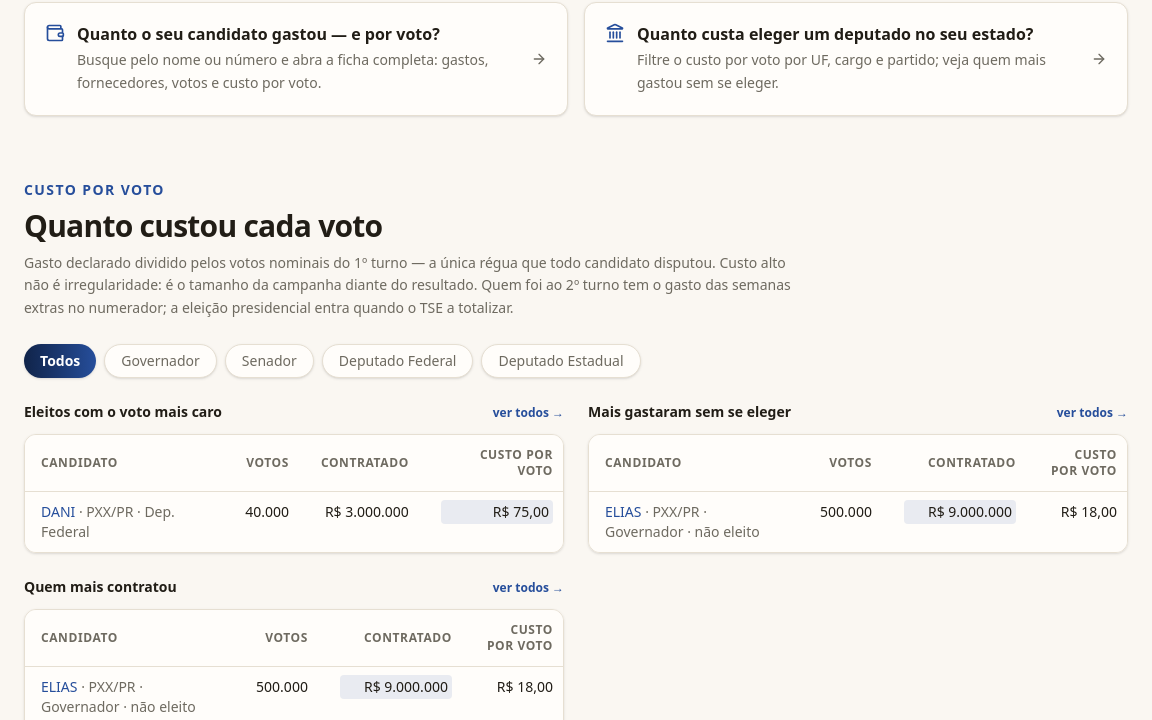
Test: home · custo por voto › as quatro listas e o ranking de partidos aparecem, e a aba por cargo filtra
(page scrolled)
Check: the heading "Quanto custou cada voto" is shown, box left=24, top=204, right=382, bottom=246
Check: the text "Mais gastaram sem se eleger" is shown, box left=588, top=402, right=791, bottom=422
Click the tab "Senador" at (269, 361), box left=225, top=344, right=314, bottom=378
(page scrolled)
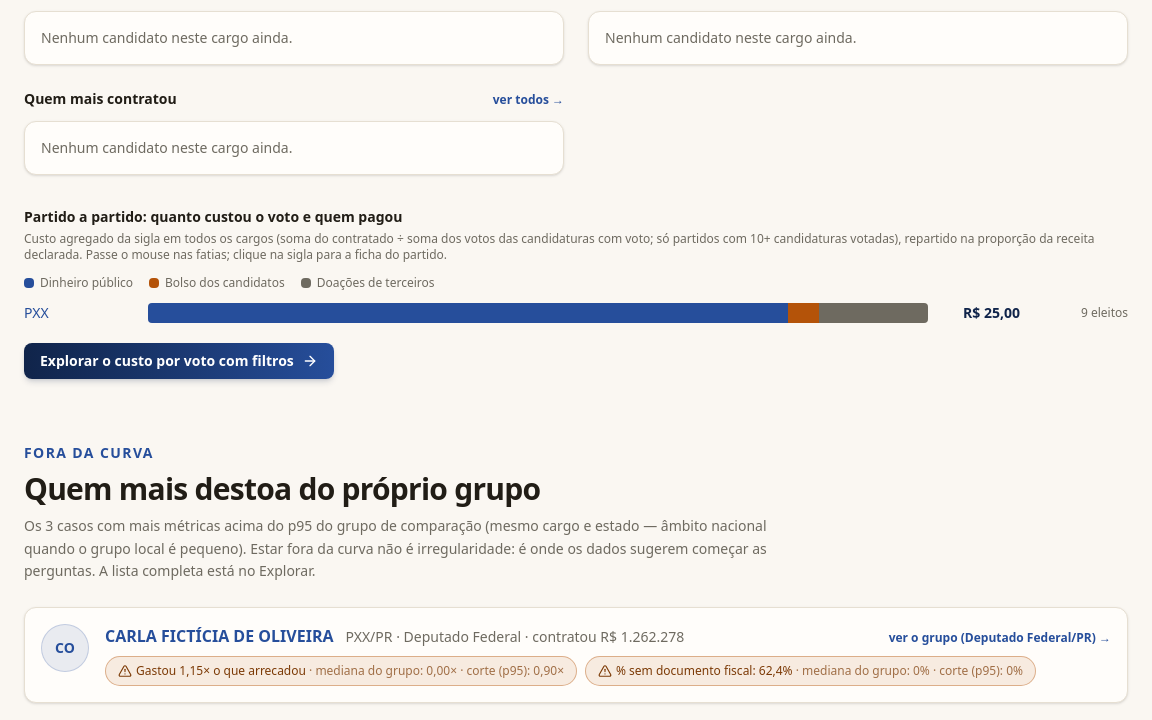
Check: the link "DANI" is gone
Check: the text "Nenhum candidato neste cargo ainda." is shown 3 times, box left=24, top=11, right=564, bottom=65; left=588, top=11, right=1128, bottom=65; left=24, top=121, right=564, bottom=175
